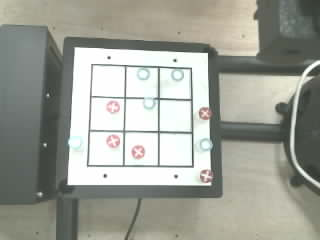blue circle: (68, 136, 83, 150), (143, 97, 155, 109), (200, 138, 212, 150), (171, 69, 183, 80), (137, 68, 149, 79)
board: (67, 46, 212, 187)
cells: (89, 132, 122, 165), (90, 98, 123, 130), (125, 133, 157, 165), (125, 99, 157, 130), (160, 134, 192, 165), (92, 65, 124, 96), (160, 100, 191, 131), (160, 68, 190, 98), (126, 67, 157, 96)
grid: (87, 64, 193, 167)
red cross: (131, 145, 145, 159), (106, 134, 119, 147), (199, 107, 212, 119), (106, 100, 119, 112), (200, 169, 212, 182)
